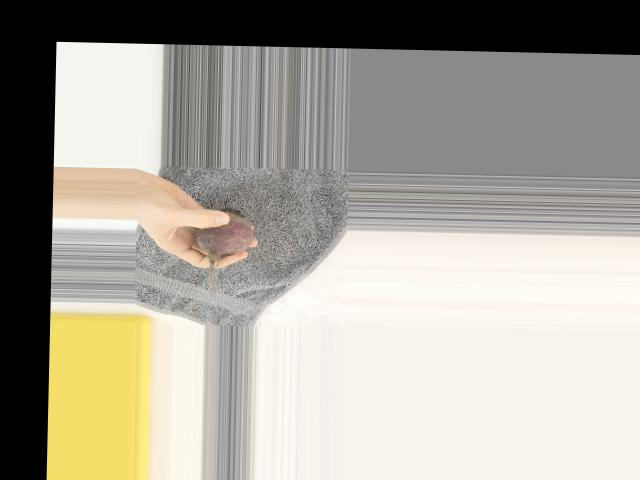beet: (194, 206, 254, 295)
